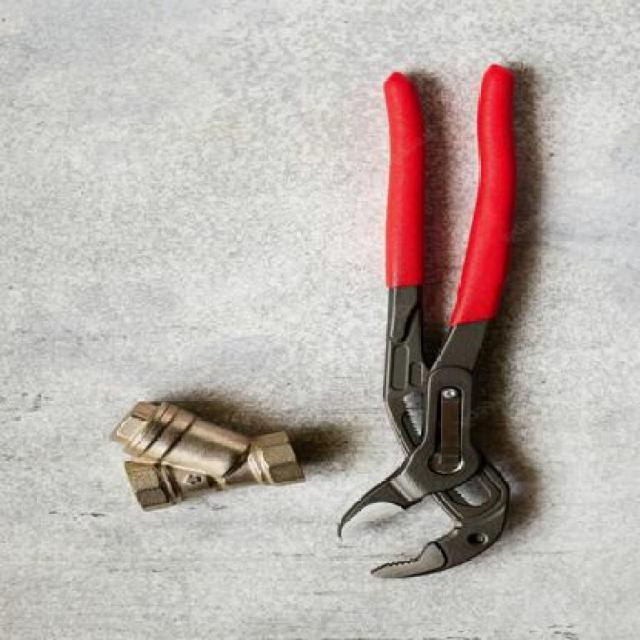pliers: (332, 65, 514, 587)
